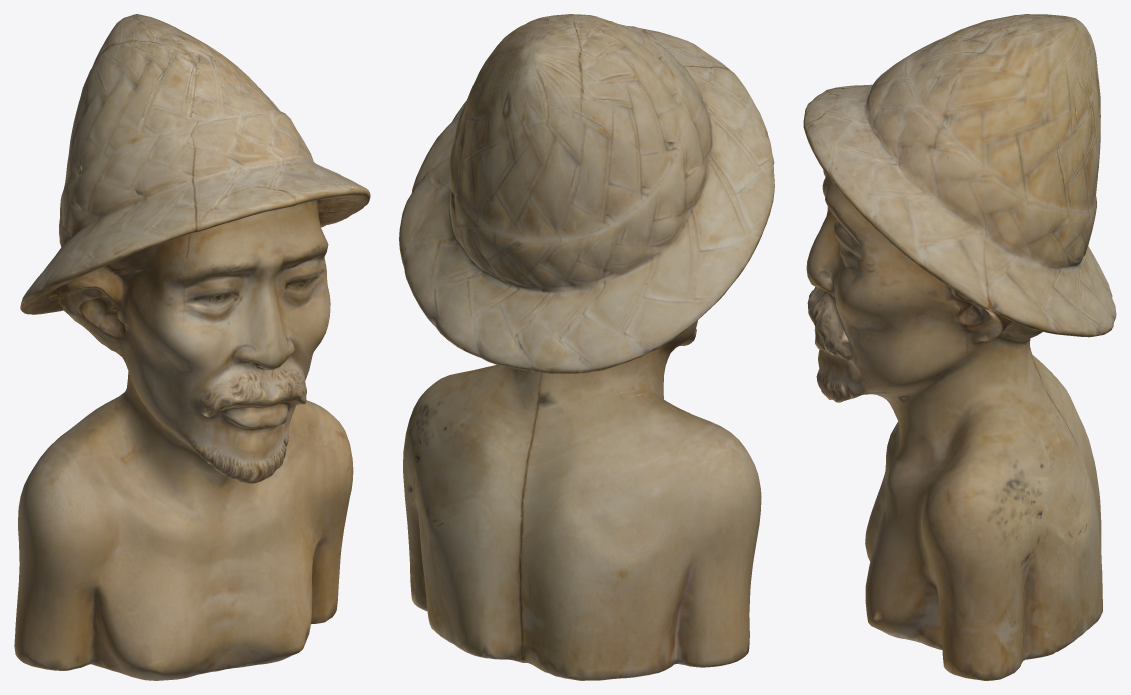
The model's file is fisherman.gltf.
3 renders of one model, left to right at view 1: azimuth 30°, elevation 25°; view 2: azimuth 150°, elevation 25°; view 3: azimuth 270°, elevation 25°, orthographic. The views are drawn at different scales.
Visible parts, largest first — view 1: wooden_bust_low_wooden_bust; view 2: wooden_bust_low_wooden_bust; view 3: wooden_bust_low_wooden_bust.
Boxes of the visible parts, x1,y1,x2,y2 form: wooden_bust_low_wooden_bust: [14, 14, 370, 680]; wooden_bust_low_wooden_bust: [399, 14, 774, 680]; wooden_bust_low_wooden_bust: [803, 14, 1116, 680].
Bounding box in the file's own units: 0.1216 × 0.2153 × 0.1035.
Materials: 1 (1 with a texture image).
